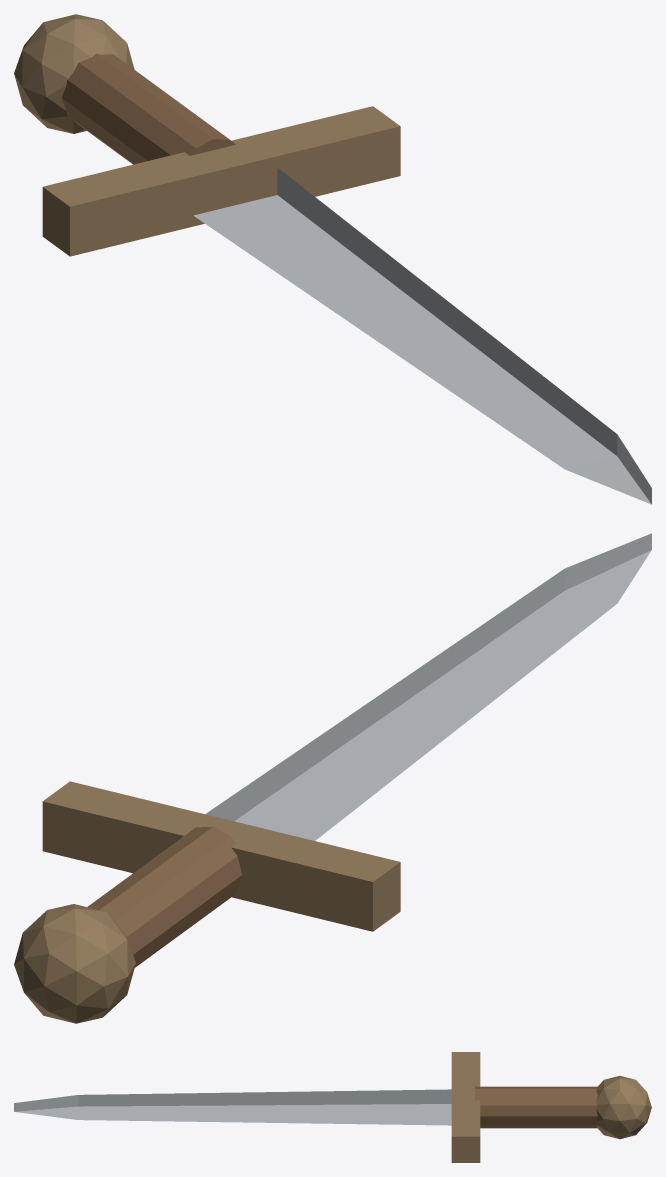
The model's file is long_wooden_blade.glb.
The picture shows the model from 3 angles, top to bottom: view 1: azimuth 30°, elevation 25°; view 2: azimuth 150°, elevation 25°; view 3: azimuth 270°, elevation 25°; orthographic projection. The views are drawn at different scales.
Visible parts, largest first — view 1: Blade, Guard, Handle, Pommel; view 2: Blade, Guard, Pommel, Handle; view 3: Blade, Handle, Guard, Pommel.
Boxes of the visible parts, x1,y1,x2,y2 form: Blade: (193,167,651,504); Guard: (42,106,400,256); Handle: (61,53,235,164); Pommel: (14,14,134,133); Blade: (205,533,651,840); Guard: (42,781,400,931); Pommel: (14,904,135,1023); Handle: (87,826,241,967); Blade: (14,1089,451,1125); Handle: (475,1086,597,1128); Guard: (451,1052,480,1162); Pommel: (596,1075,651,1139).
Size of the model in its own units: 1.25 by 0.4 by 3.98.
